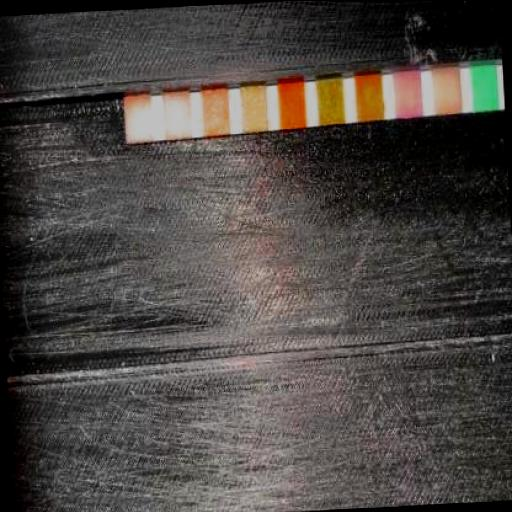Bilirubin: (436, 68, 459, 112)
Blood: (320, 80, 344, 124)
Glucose: (474, 66, 494, 110)
Ketone: (396, 71, 420, 116)
Leukocytes: (128, 96, 150, 141)
Nitrite: (168, 92, 190, 136)
Protein: (245, 86, 266, 130)
SpGravity: (358, 74, 382, 120)
Urobilinogen: (206, 90, 228, 134)
pH: (282, 82, 304, 128)
strip: (123, 64, 505, 143)
